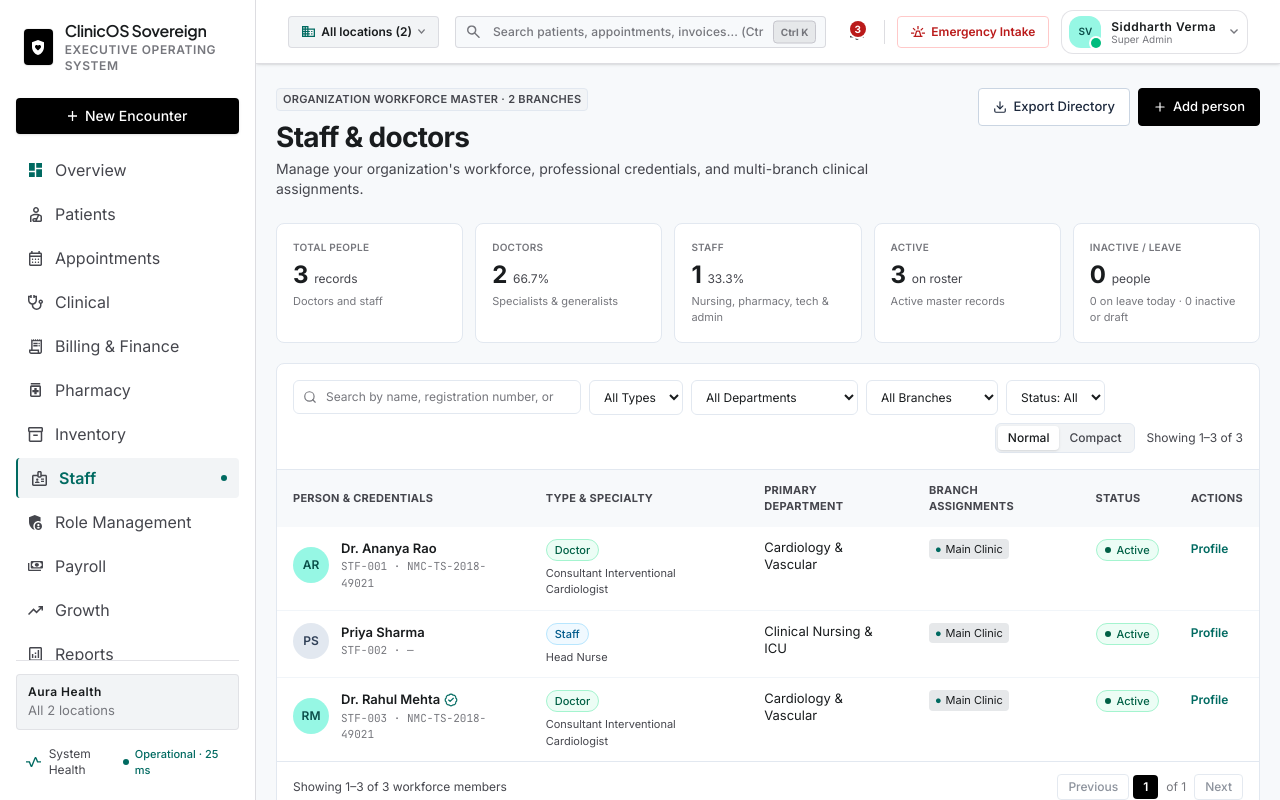
Scenario: staff directory › filters by type and searches by staff ID on the server
Expected: the link "Priya Sharma" is shown, [341,622,425,642]
Select "Staff" in the dropdown named "Type" at point(636, 397), box [589,380,683,414]
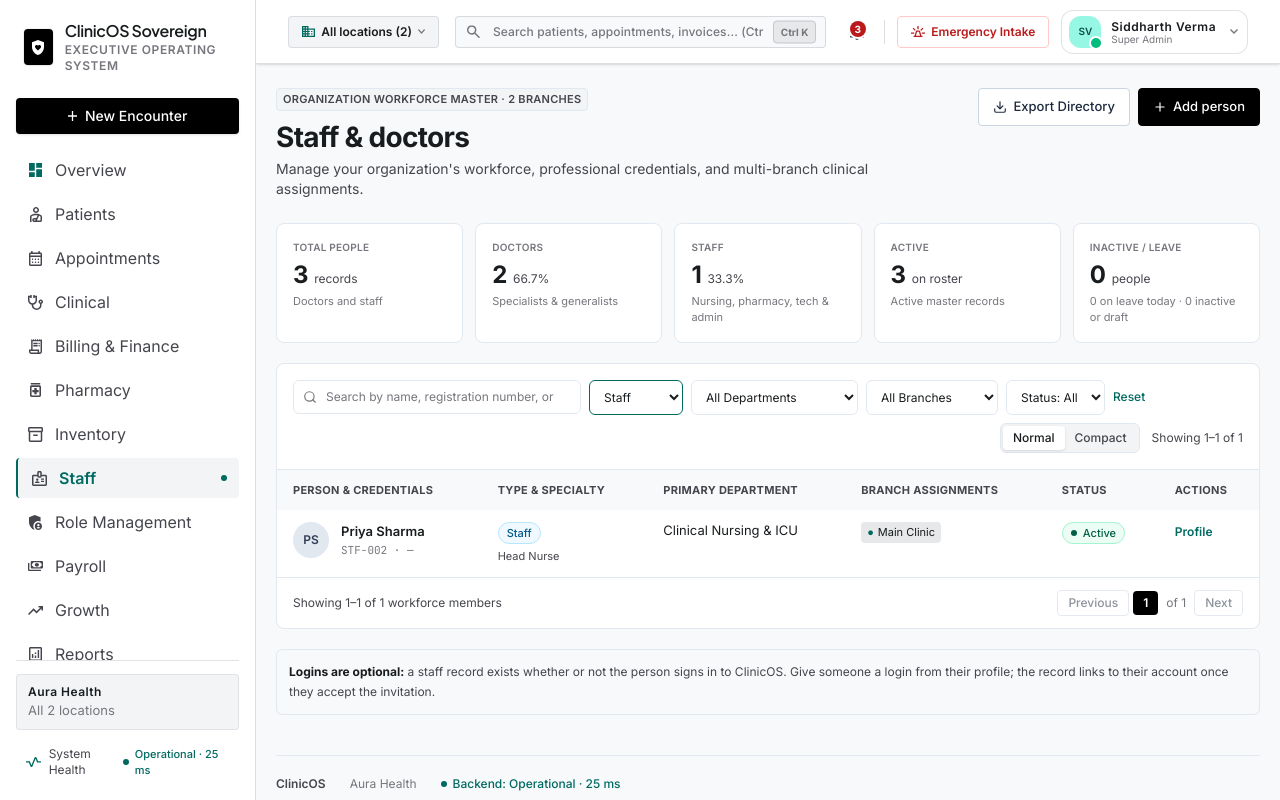
Expected: the link "Dr. Ananya Rao" is gone
Click the button "Reset" at point(1129, 397), box [1113,389,1145,405]
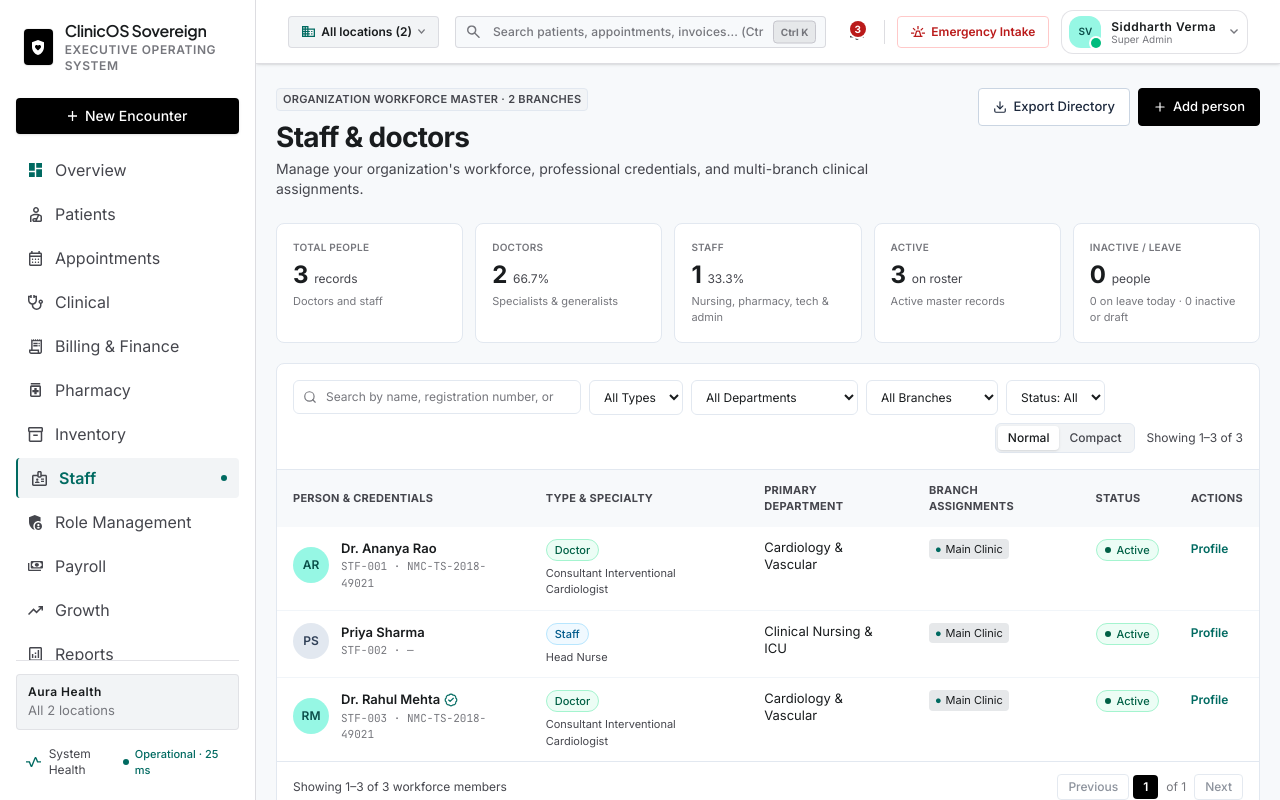
Click the search field named "Search staff" at point(437, 397), box [293,380,581,414]
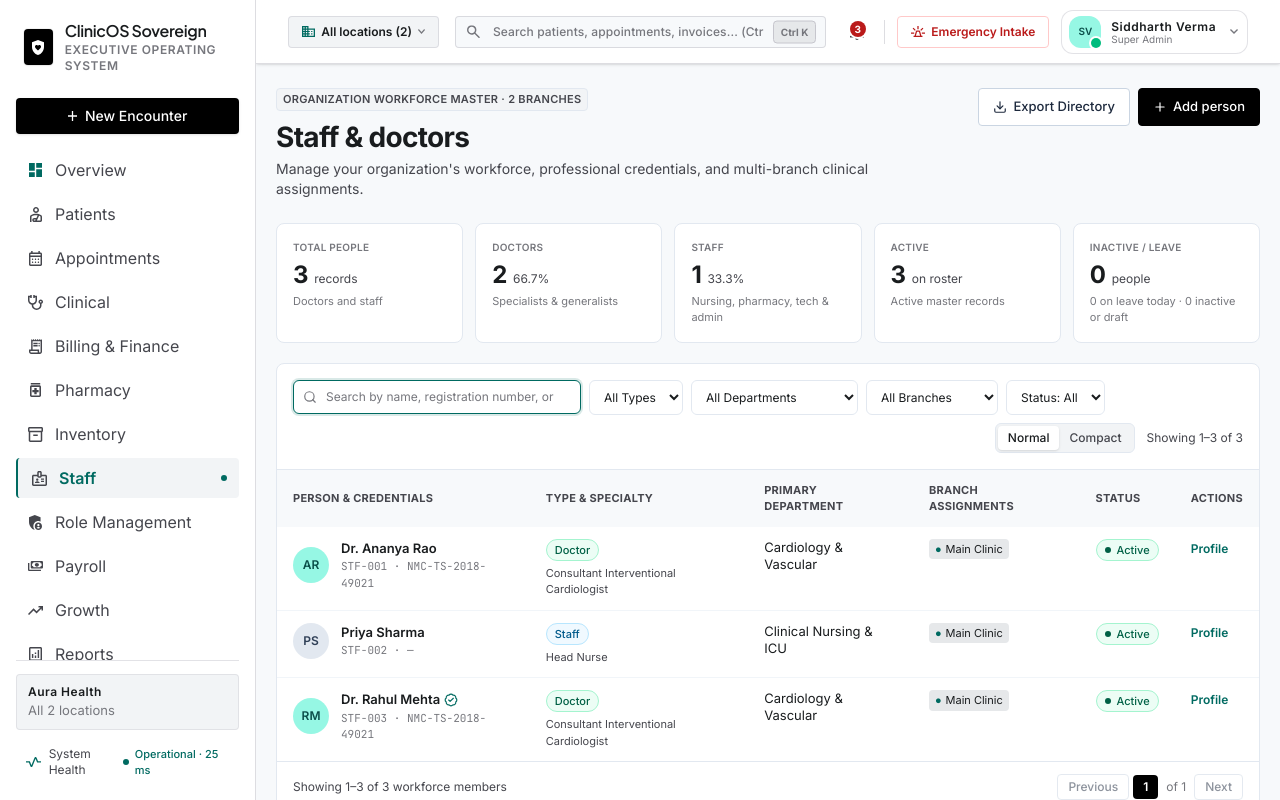
Type keys "nobody"
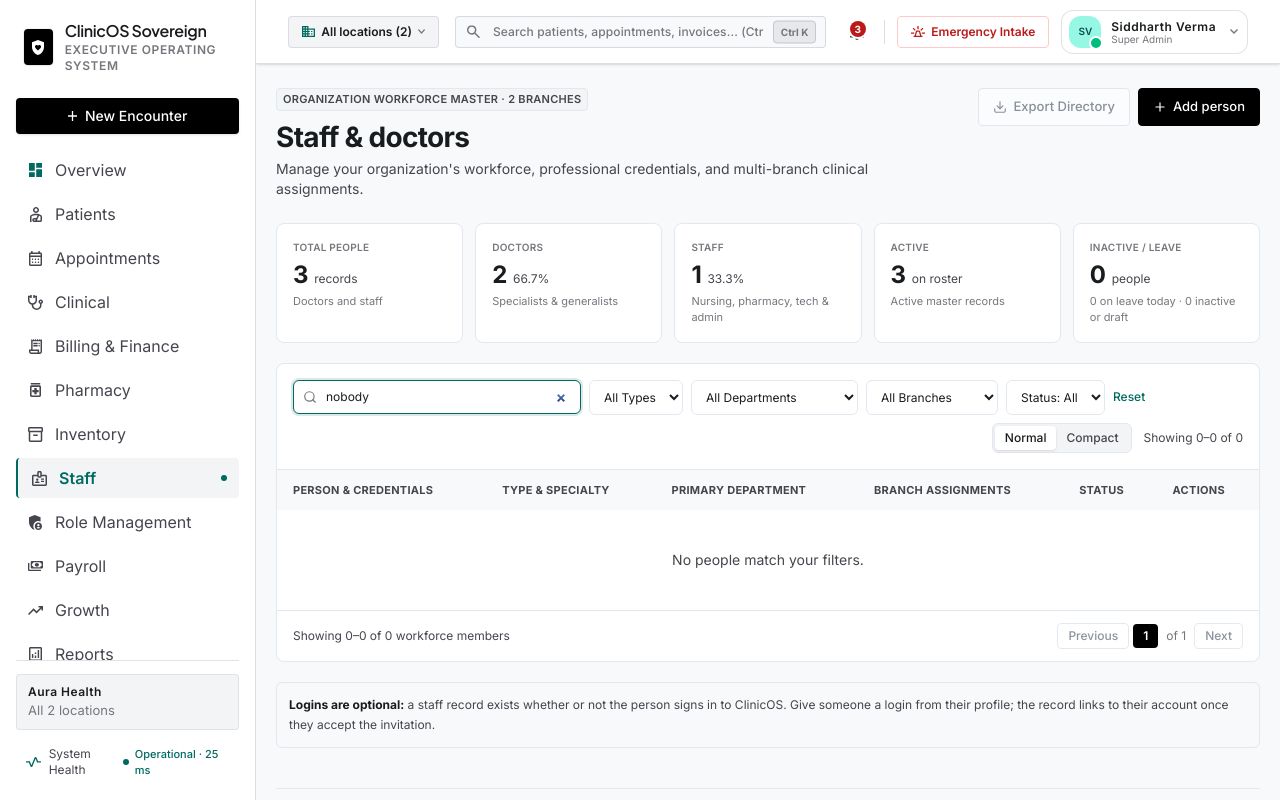
Expected: the text "No people match your filters." is shown, [672,551,864,568]
